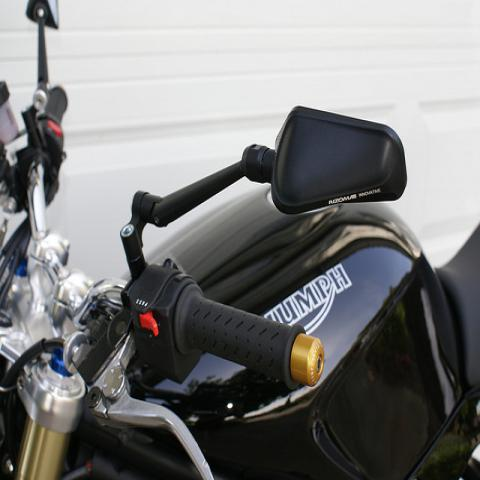motorcycle: (0, 4, 479, 474)
